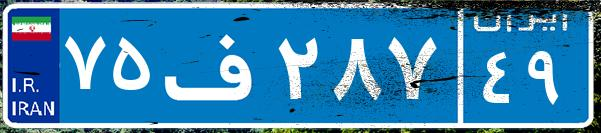2: (273, 28, 330, 110)
4: (475, 38, 525, 113)
5: (110, 28, 158, 105)
7: (385, 28, 445, 110), (57, 26, 110, 107)
8: (330, 28, 385, 110)
9: (525, 38, 570, 115)
ف: (158, 15, 273, 115)
